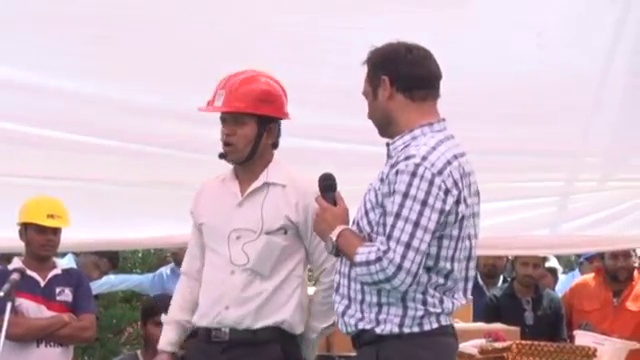helmet: (199, 65, 294, 129), (13, 197, 72, 234), (573, 328, 639, 360)
helmet_off: (359, 43, 455, 136), (130, 296, 171, 344), (588, 249, 636, 285), (75, 252, 120, 284), (512, 252, 547, 290), (477, 253, 510, 284)
helmet_on: (200, 67, 292, 183), (12, 201, 72, 273)
person: (154, 65, 342, 358), (314, 36, 478, 360), (0, 196, 97, 360), (563, 246, 640, 344), (484, 253, 565, 336), (468, 254, 513, 324)
